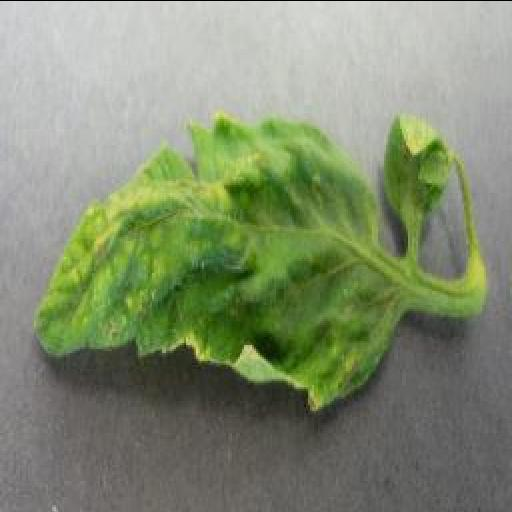disease_tomato: (34, 121, 388, 413)
